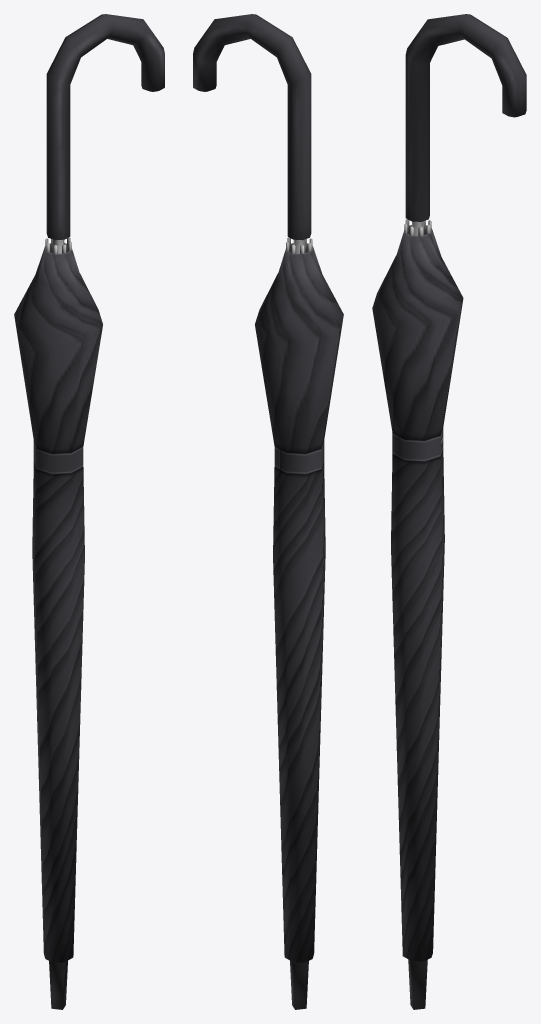
The model's file is set_umbrella_04.fbx.
3 renders of one model, left to right at view 1: azimuth 30°, elevation 25°; view 2: azimuth 150°, elevation 25°; view 3: azimuth 330°, elevation 25°, orthographic. The views are drawn at different scales.
Visible parts, largest first — view 1: set_umbrella_04; view 2: set_umbrella_04; view 3: set_umbrella_04.
Boxes of the visible parts, bbox=[...] form: set_umbrella_04: bbox=[14, 14, 164, 1009]; set_umbrella_04: bbox=[193, 14, 343, 1009]; set_umbrella_04: bbox=[372, 14, 526, 1009].
Size of the model in its own units: 12.79 by 82.9 by 7.05.
